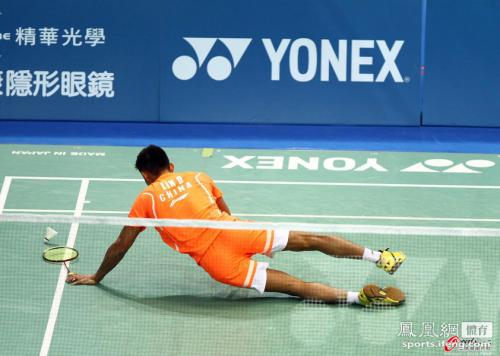fall: (63, 138, 402, 318)
